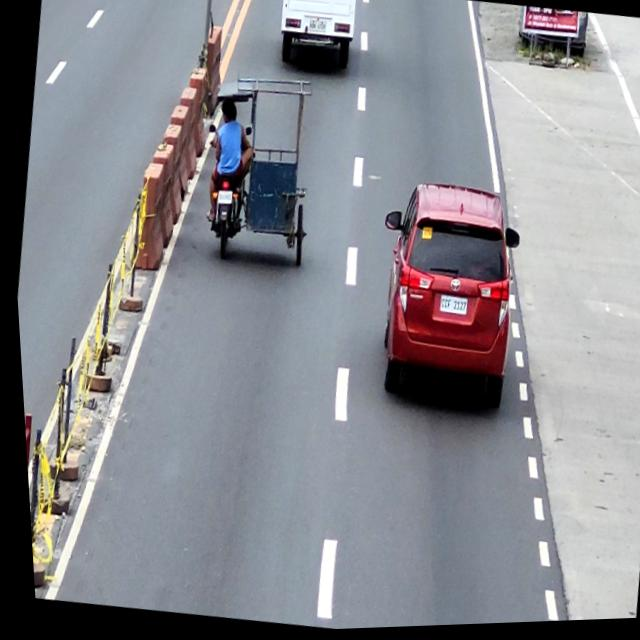Car: (355, 178, 532, 418), (274, 0, 362, 75)
License-Plate: (435, 298, 465, 320), (306, 21, 327, 37), (214, 191, 231, 207)
Tricycle: (188, 70, 326, 272)
